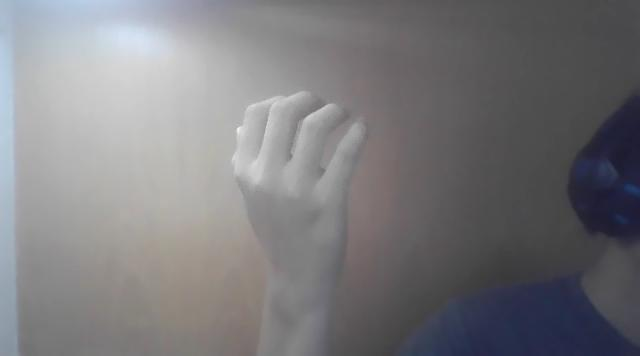backword: (220, 85, 374, 307)
